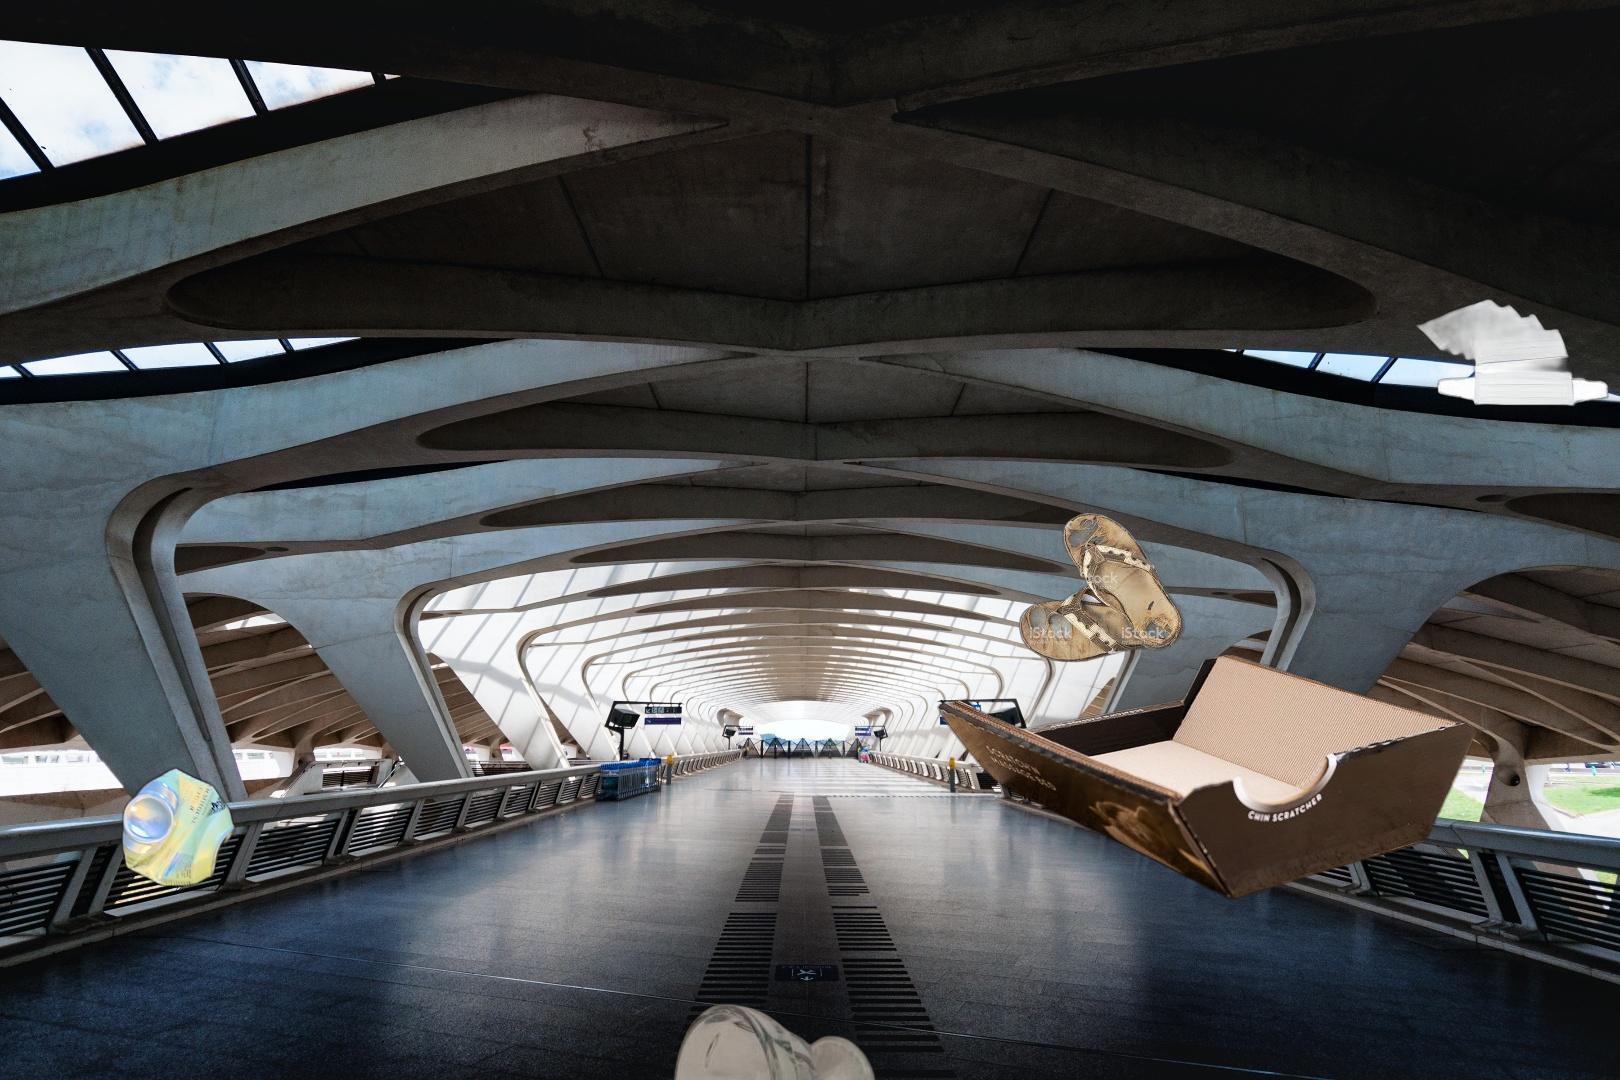glass: (669, 1002, 881, 1080)
metal-cans: (117, 762, 239, 893)
shoes: (1016, 510, 1186, 665)
trash: (1411, 297, 1612, 413)
trashbox-cardboard: (932, 652, 1483, 903)
